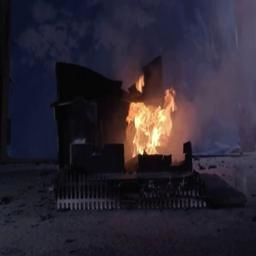fire: (119, 74, 177, 161)
smoke: (176, 0, 256, 99)
